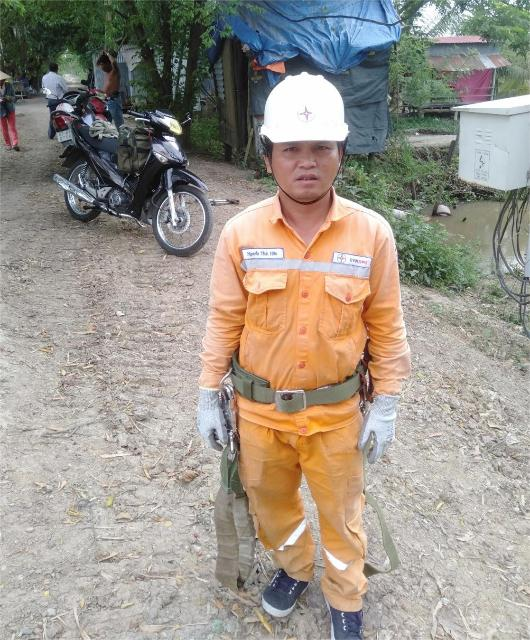gloves: (354, 386, 403, 463), (192, 385, 240, 462)
harness: (210, 358, 373, 410)
helmet: (244, 64, 358, 151)
shoes: (259, 557, 316, 615), (320, 579, 372, 640)
